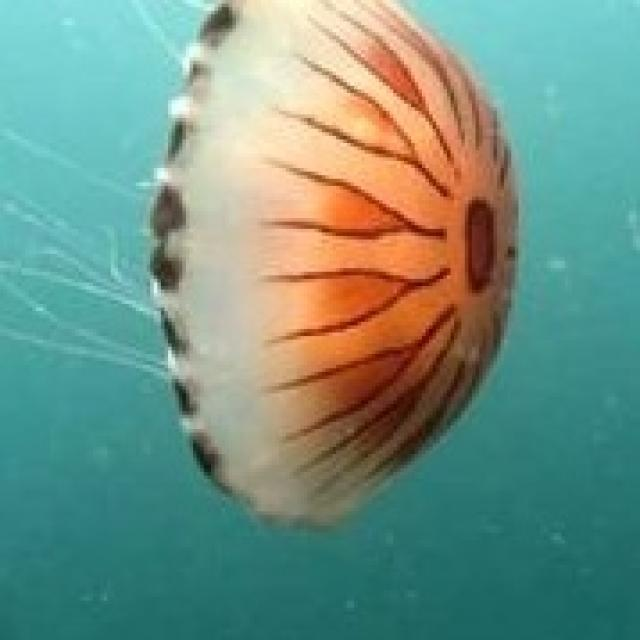Human: (140, 0, 518, 529)
